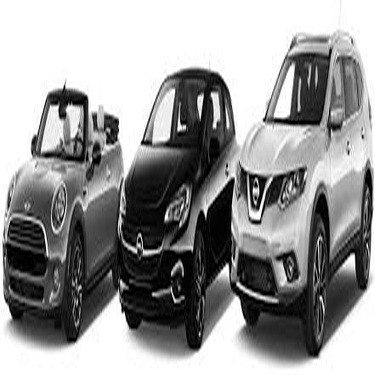car: (223, 20, 372, 359), (113, 62, 243, 354), (1, 73, 130, 348)
